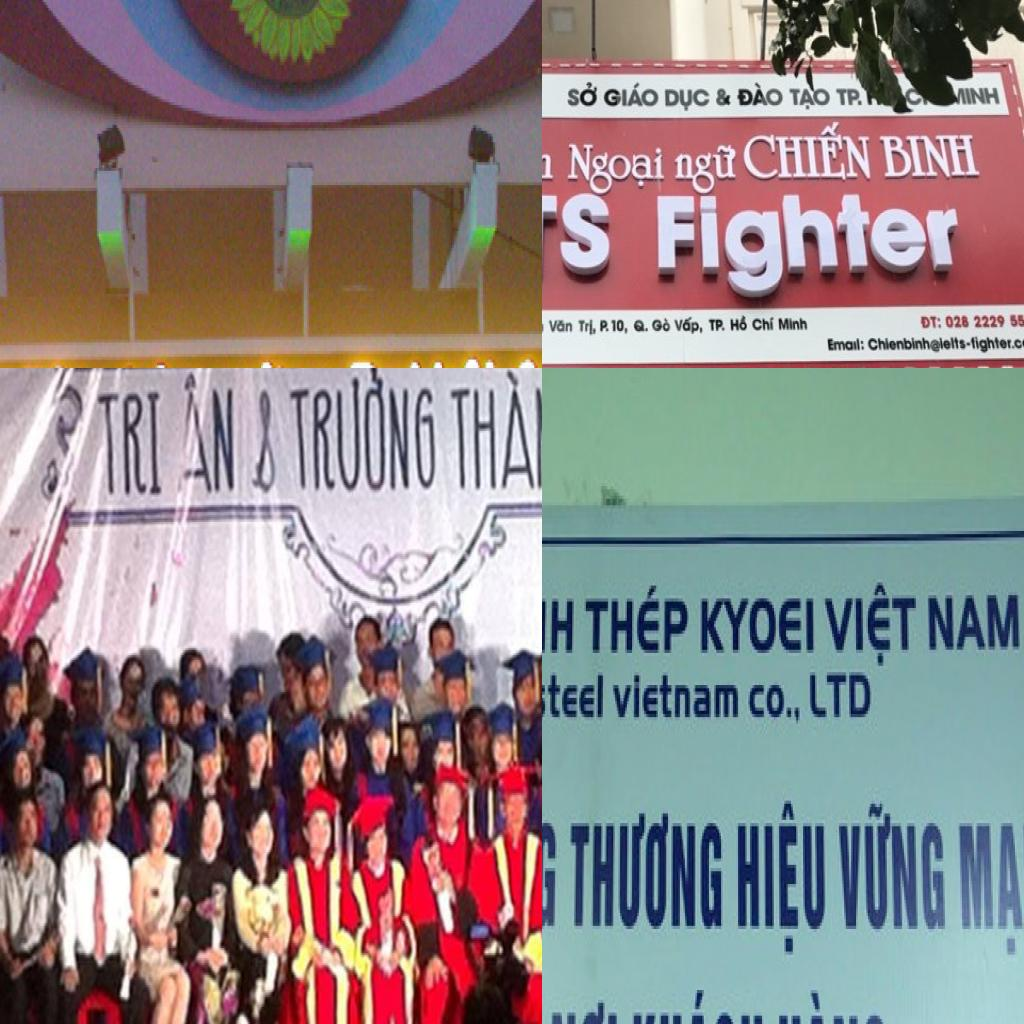text: (655, 190, 969, 304), (570, 810, 724, 936), (287, 368, 438, 493), (736, 797, 829, 958), (836, 801, 948, 932), (449, 368, 542, 493), (957, 820, 1024, 958), (584, 576, 690, 659), (743, 121, 876, 186), (824, 582, 921, 669), (175, 370, 237, 497), (700, 596, 816, 660), (95, 390, 163, 498), (612, 672, 742, 724), (542, 190, 612, 277), (568, 139, 668, 198), (928, 595, 1023, 656), (878, 132, 982, 180), (632, 990, 767, 1024), (777, 987, 891, 1024), (865, 334, 1024, 357), (672, 142, 738, 197), (542, 672, 606, 723), (746, 679, 804, 730), (542, 595, 577, 659), (603, 82, 660, 111), (943, 312, 1024, 331), (736, 80, 786, 110), (663, 86, 712, 115), (789, 85, 832, 112), (567, 80, 600, 110), (963, 84, 1003, 108), (834, 86, 866, 110), (827, 335, 866, 354), (672, 315, 704, 337), (777, 315, 810, 334), (901, 86, 925, 110), (750, 315, 776, 334), (919, 314, 943, 333), (547, 318, 574, 334), (729, 313, 749, 334), (715, 86, 732, 110), (578, 318, 598, 337), (651, 317, 672, 334), (610, 318, 628, 337), (706, 317, 726, 334), (633, 318, 650, 336), (599, 318, 610, 334)
